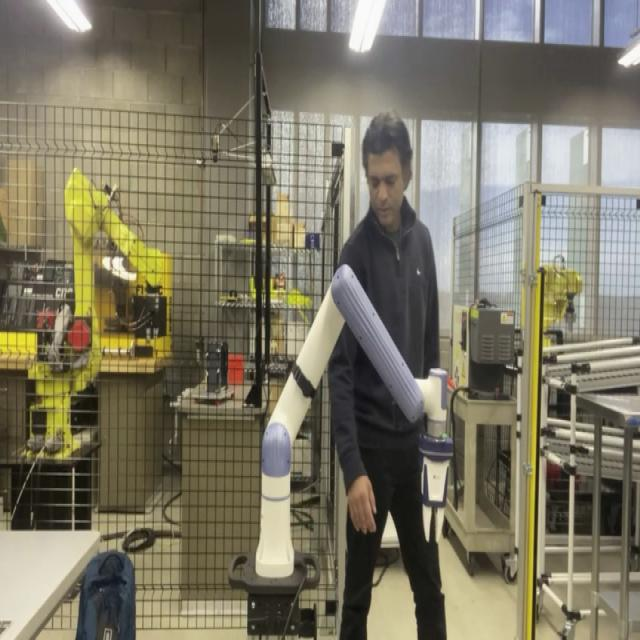robot: (246, 255, 458, 587)
